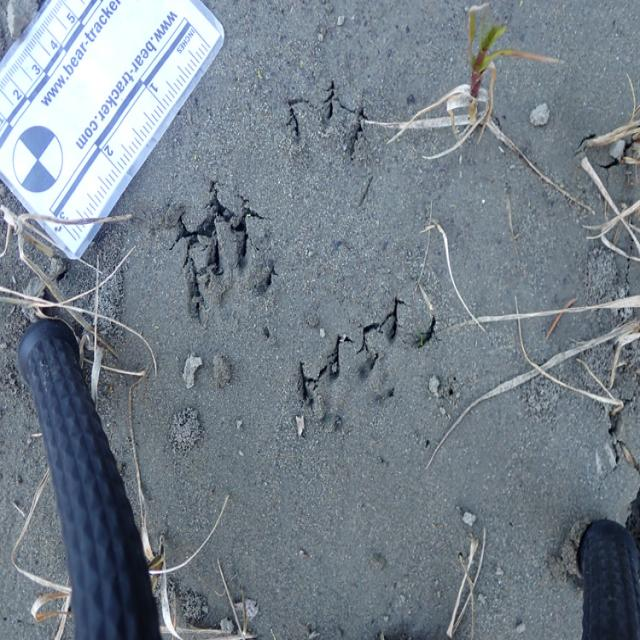mustelid: (184, 208, 274, 350)
